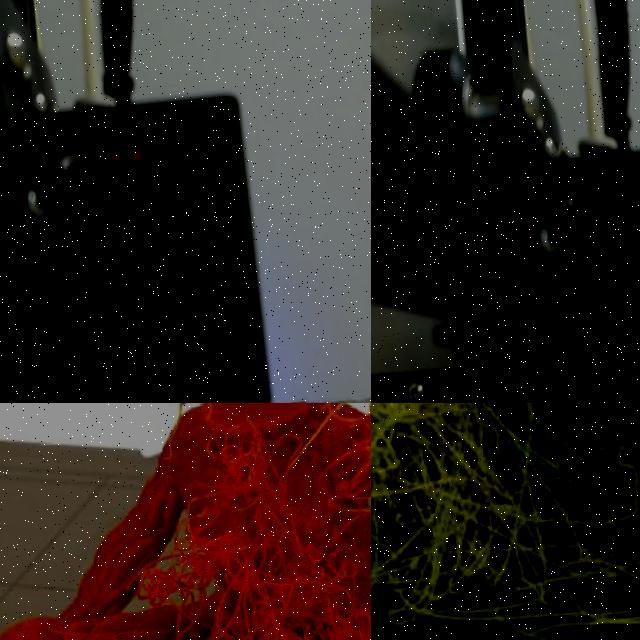spaghetti: (0, 403, 371, 640), (371, 403, 640, 640)
